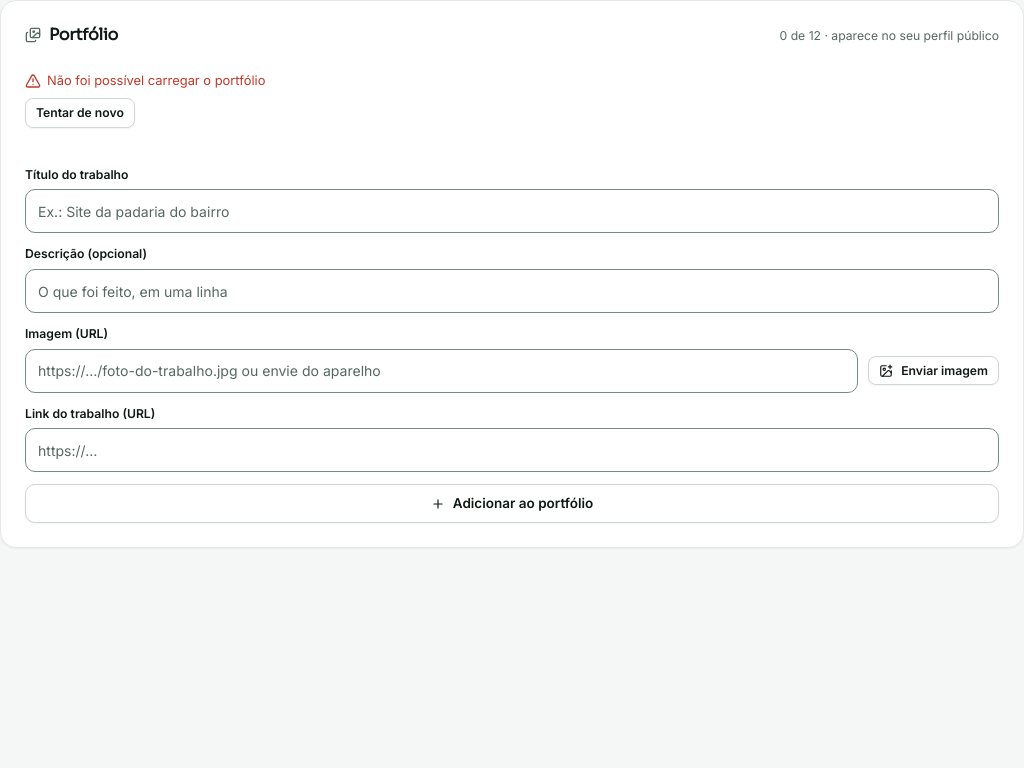
Test: portfólio: o que a lista mostra › lista que não carrega mostra o erro e tenta de novo pelo botão
Check: the message shows "Não foi possível carregar o portfólio", box [47,73,265,88]
Click the button "Tentar de novo" at (80, 113), box [25,98,135,128]
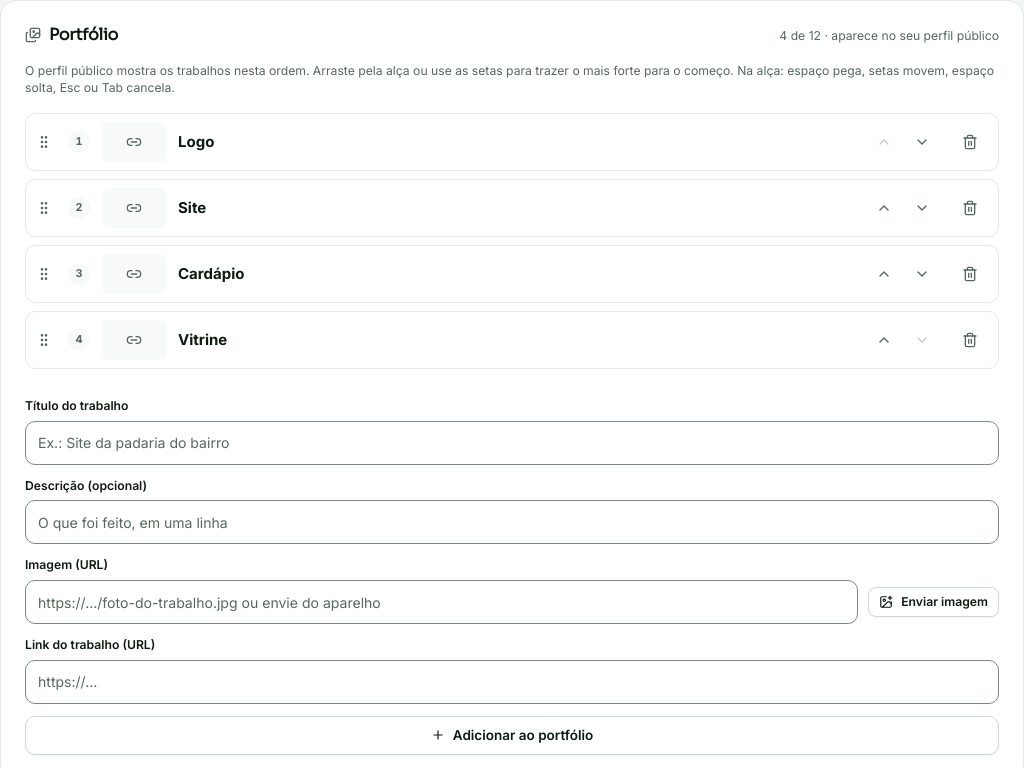
Check: the text "4 de 12 · aparece no seu perfil público" is shown, box [779,26,999,44]
Check: the message "Não foi possível carregar o portfólio Tentar de novo" is gone
